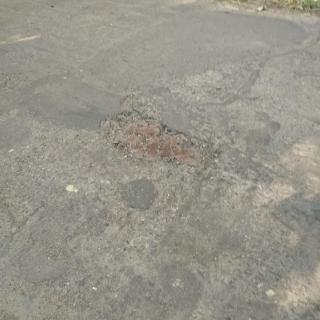pothole: (98, 90, 223, 179)
